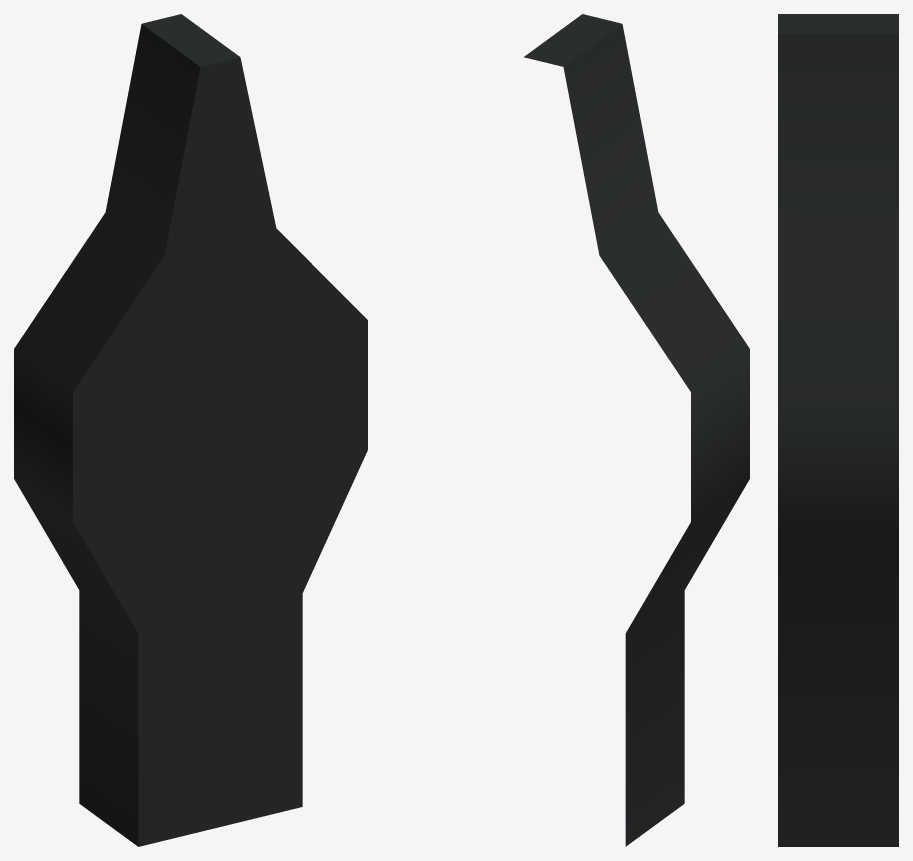
Rendered from SM_Bld_Clock_Tower_HourHand_01.glb.
3 views of the same model, side by side, from view 1: azimuth 30°, elevation 25°; view 2: azimuth 150°, elevation 25°; view 3: azimuth 270°, elevation 25° (orthographic). The views are drawn at different scales.
Visible parts, largest first — view 1: SM_Bld_Clock_Tower_HourHand_01; view 2: SM_Bld_Clock_Tower_HourHand_01; view 3: SM_Bld_Clock_Tower_HourHand_01.
Boxes of the visible parts, bbox=[...] form: SM_Bld_Clock_Tower_HourHand_01: bbox=[14, 14, 367, 846]; SM_Bld_Clock_Tower_HourHand_01: bbox=[524, 14, 749, 846]; SM_Bld_Clock_Tower_HourHand_01: bbox=[778, 14, 898, 846].
Bounding box in the file's own units: 0.0932 × 0.231 × 0.0323.
1 material, 1 textured.
